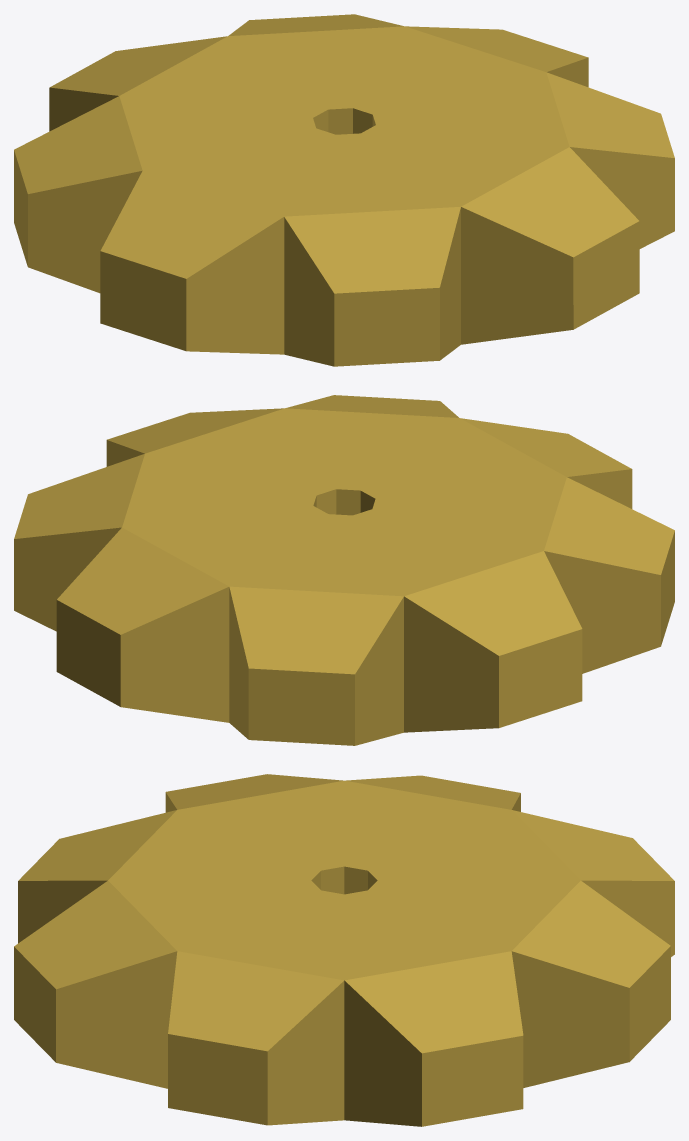
The model's file is gasBaloonVentil.fbx.
3 views of the same model, one above another, from view 1: azimuth 30°, elevation 25°; view 2: azimuth 150°, elevation 25°; view 3: azimuth 270°, elevation 25° (orthographic). The views are drawn at different scales.
Visible parts, largest first — view 1: gasBaloon.001; view 2: gasBaloon.001; view 3: gasBaloon.001.
Part boxes in pixels (x1,y1,x2,y2): gasBaloon.001: (14, 14, 674, 366); gasBaloon.001: (14, 395, 674, 745); gasBaloon.001: (14, 774, 674, 1126).
Size of the model in its own units: 5.4 by 1.26 by 5.4.
